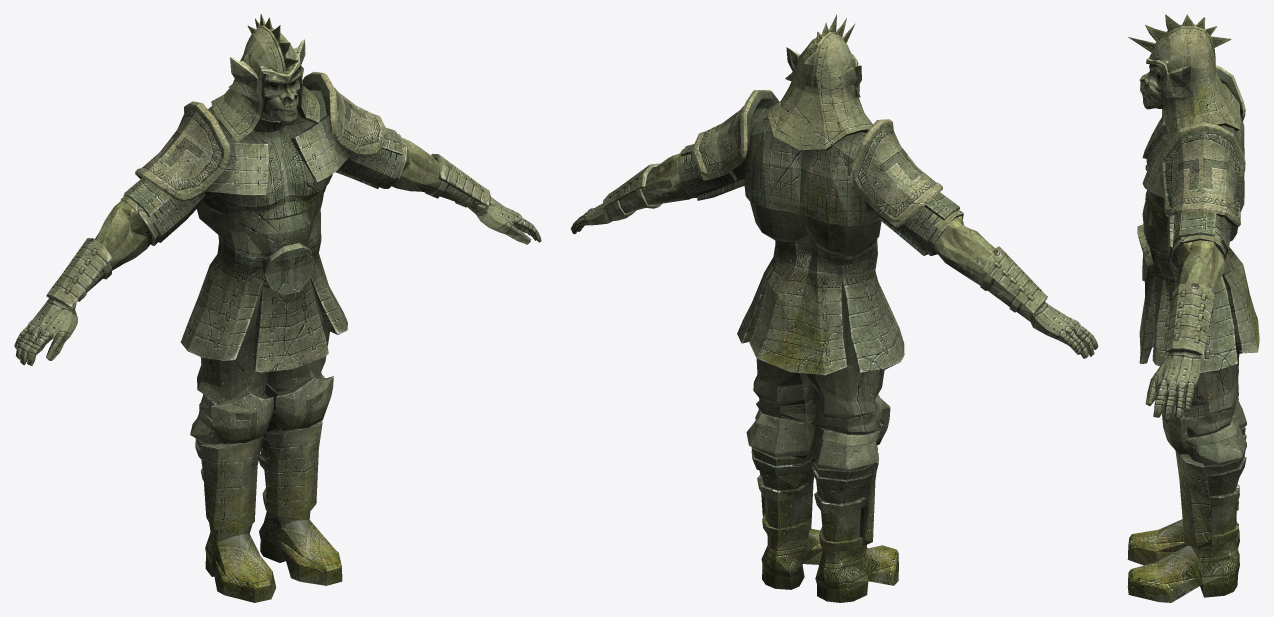
File: gargoyle.obj
3 views of the same model, side by side, from view 1: azimuth 30°, elevation 25°; view 2: azimuth 150°, elevation 25°; view 3: azimuth 270°, elevation 25° (orthographic).
Parts seen in each view (by area): view 1: gargoyle_skin; view 2: gargoyle_skin; view 3: gargoyle_skin.
Boxes of the visible parts, x1,y1,x2,y2 form: gargoyle_skin: [14, 14, 541, 602]; gargoyle_skin: [570, 14, 1098, 602]; gargoyle_skin: [1127, 14, 1259, 602].
Bounding box in the file's own units: 110 × 113 × 24.34.
4 materials, 4 textured.
